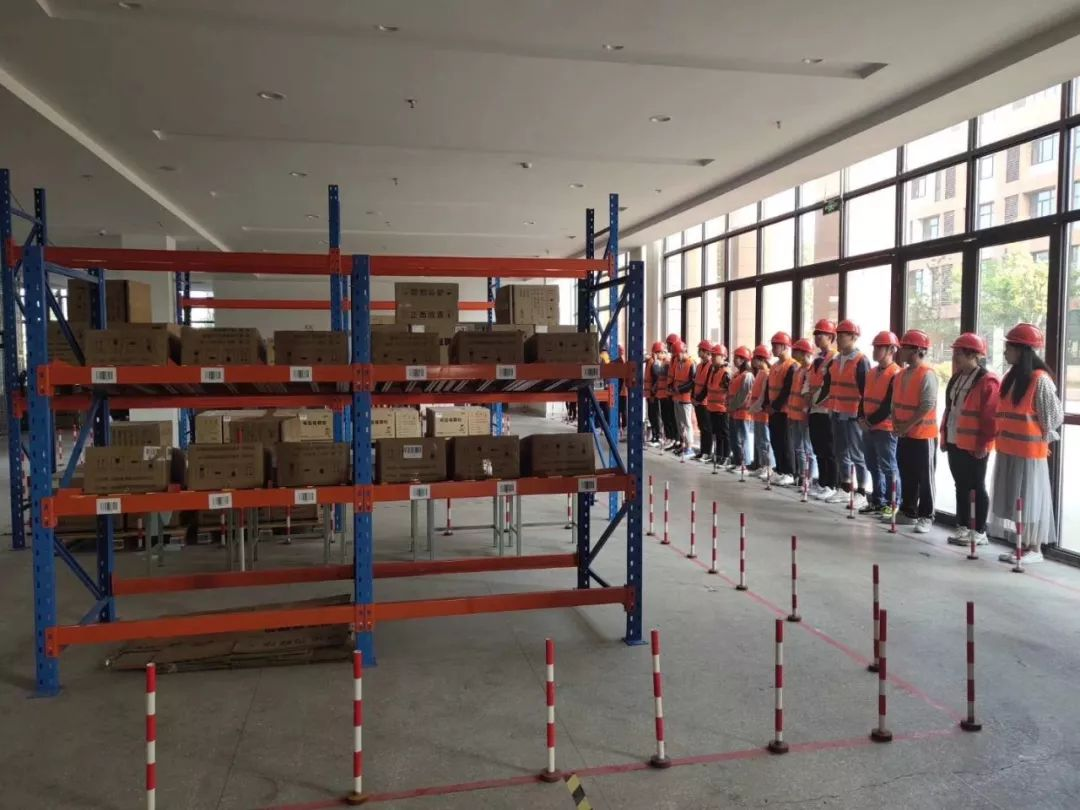person: (993, 322, 1065, 567), (940, 333, 1000, 547), (883, 328, 938, 534), (824, 319, 871, 508), (856, 329, 900, 523), (804, 319, 837, 502), (787, 337, 818, 492), (766, 330, 795, 487), (726, 345, 755, 477), (748, 343, 772, 481), (669, 339, 696, 460), (704, 344, 730, 468), (690, 339, 712, 465), (651, 340, 673, 456)
reflective_vest: (939, 367, 1001, 453), (995, 369, 1049, 460), (892, 364, 939, 439), (861, 363, 902, 432), (826, 352, 867, 413), (807, 351, 837, 408), (767, 359, 795, 413), (785, 363, 811, 420), (705, 365, 731, 413), (748, 368, 771, 422), (727, 371, 751, 420), (671, 358, 694, 403), (692, 361, 713, 406), (655, 358, 670, 398), (641, 355, 653, 398)
safety_helmet: (1002, 322, 1046, 366), (950, 332, 988, 372), (898, 328, 933, 364), (870, 328, 900, 364), (834, 319, 862, 351), (811, 318, 836, 351), (791, 337, 813, 367), (770, 330, 792, 357), (751, 343, 772, 370), (732, 345, 752, 370), (709, 343, 729, 368), (670, 339, 688, 363), (696, 338, 712, 360), (651, 341, 666, 360)
